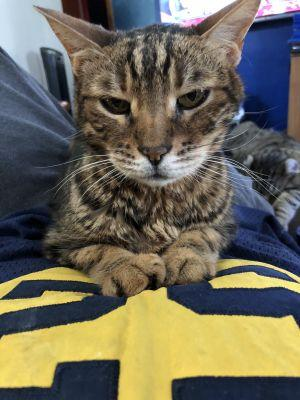bengal: (19, 1, 273, 196)
